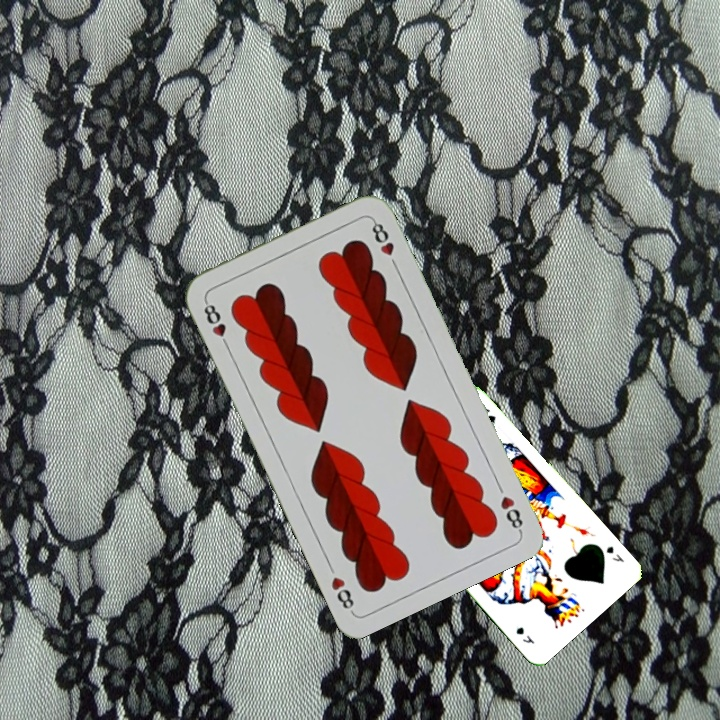GK: (602, 542, 627, 565)
H8: (199, 296, 233, 352), (496, 491, 526, 535)
